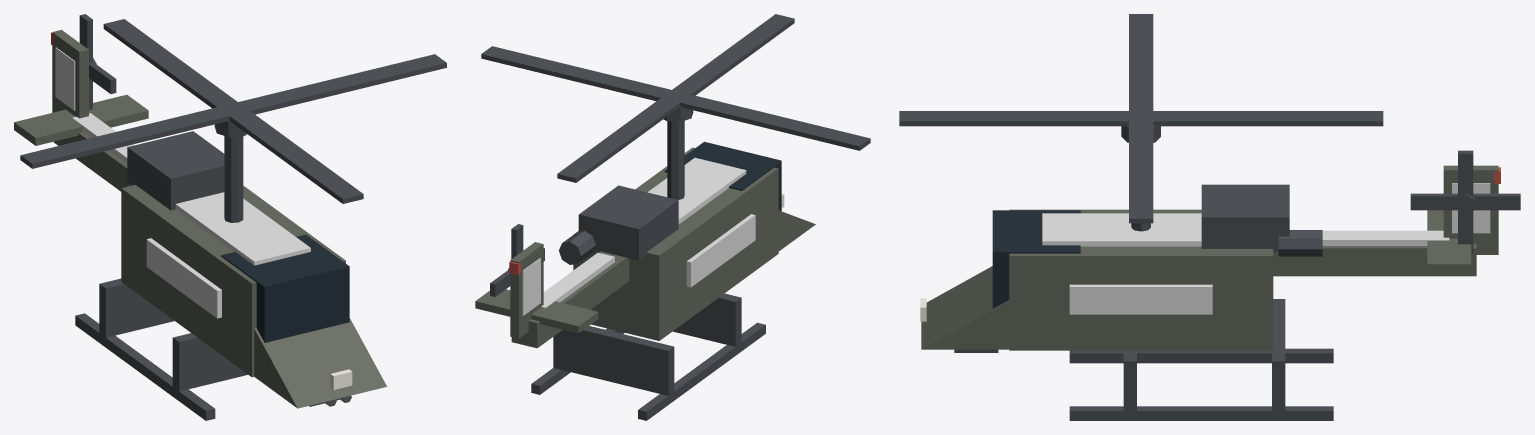
The model's file is RF_Vehicle_Helicopter.glb.
3 views of the same model, side by side, from view 1: azimuth 30°, elevation 25°; view 2: azimuth 150°, elevation 25°; view 3: azimuth 270°, elevation 25° (orthographic). The views are drawn at different scales.
Parts seen in each view (by area): view 1: RF_Vehicle_Helicopter, MainRotor, TeamTrim, TailRotor; view 2: RF_Vehicle_Helicopter, MainRotor, TeamTrim, TailRotor; view 3: RF_Vehicle_Helicopter, MainRotor, TeamTrim, TailRotor.
Boxes of the visible parts, left/top/right/bottom form: RF_Vehicle_Helicopter: left=14, top=30, right=386, bottom=420; MainRotor: left=20, top=19, right=446, bottom=203; TeamTrim: left=55, top=47, right=310, bottom=318; TailRotor: left=79, top=14, right=116, bottom=110; RF_Vehicle_Helicopter: left=475, top=121, right=815, bottom=420; MainRotor: left=481, top=14, right=870, bottom=182; TeamTrim: left=522, top=157, right=755, bottom=315; TailRotor: left=490, top=224, right=544, bottom=296; RF_Vehicle_Helicopter: left=921, top=165, right=1498, bottom=420; MainRotor: left=899, top=14, right=1383, bottom=223; TeamTrim: left=1042, top=183, right=1490, bottom=314; TailRotor: left=1410, top=150, right=1520, bottom=253.
Size of the model in its own units: 4.4 by 2.75 by 5.65.
